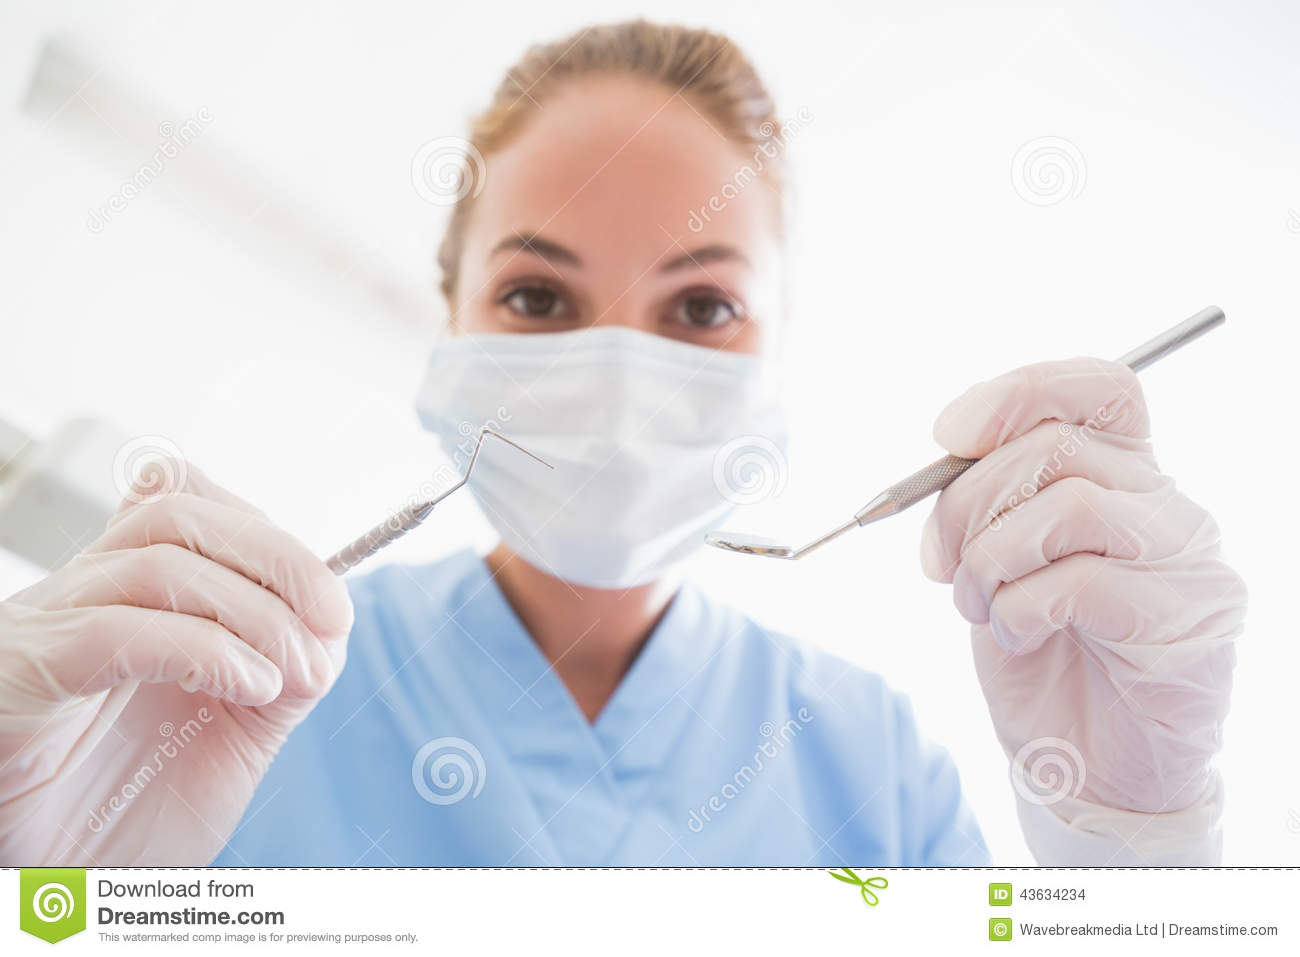mask: (410, 319, 794, 588)
